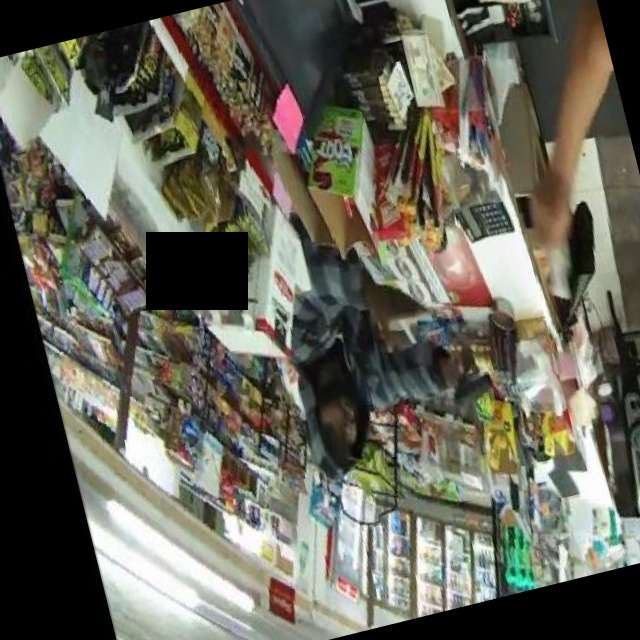gun: (436, 345, 501, 421)
